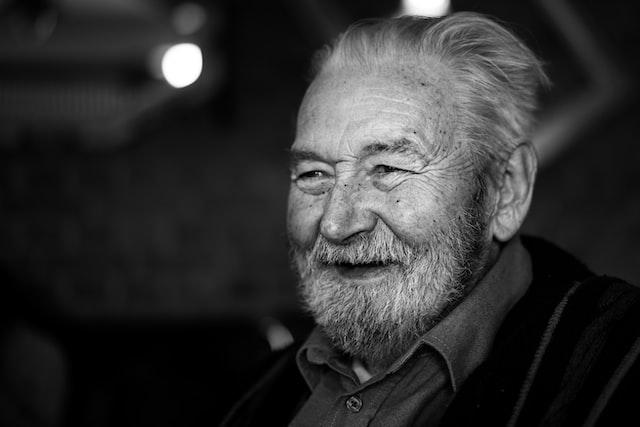crows_feet: (413, 157, 439, 189)
forehead: (380, 92, 416, 119)
frown_line: (331, 150, 354, 173)
gummy_smile: (371, 205, 403, 235), (304, 222, 324, 260)
